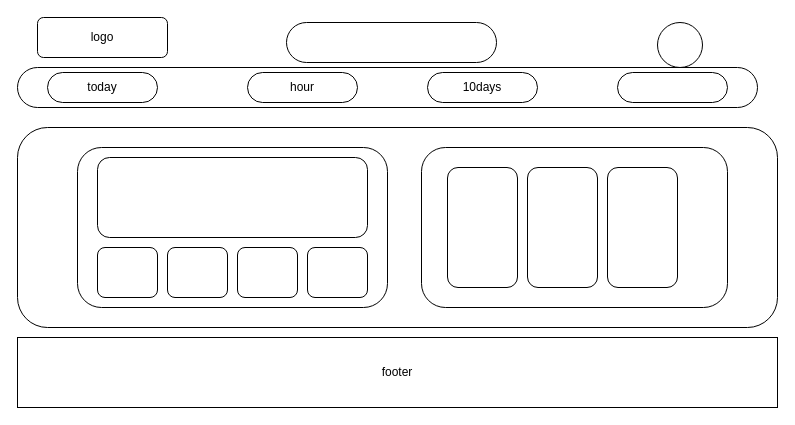
Some shapes in this 795 by 425 pixel diagram are drawn without their labels. Each missing label, with the centre of its shape:
"about" goes at (679,45).
"search bar" goes at (391,42).
